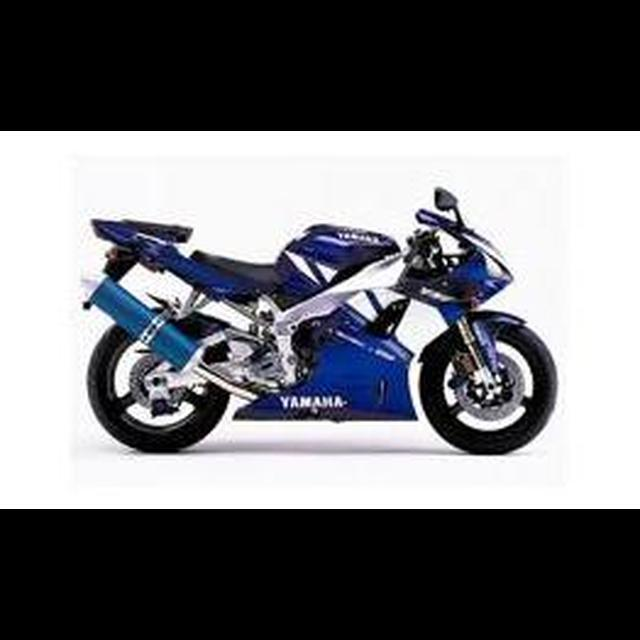motorcycle: (75, 181, 564, 460)
